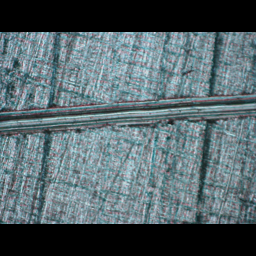d: (0, 91, 254, 142)
